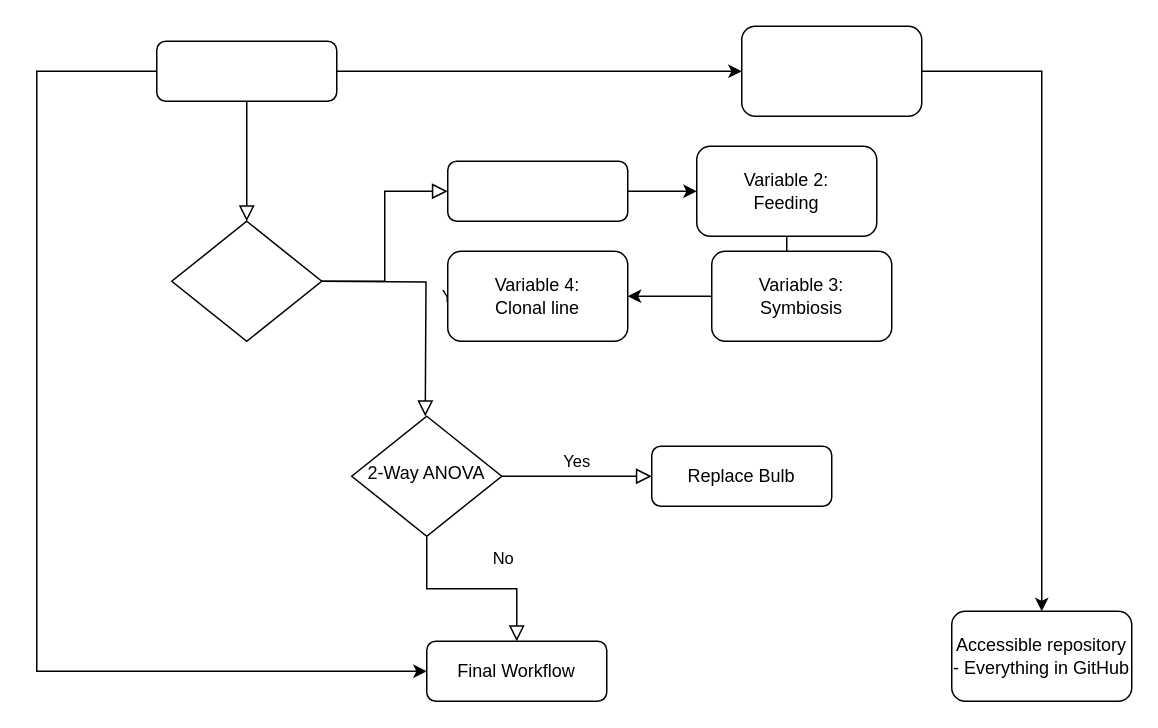
Image size: 1158x728. Some labels were removed from this diagram. Each missing label, with the centre of its shape:
"Copy: Raw Data, Metadata" goes at point (831, 70).
"Raw Data" goes at point (246, 70).
"T-test" goes at point (246, 280).
"Variable 1: Heat" goes at point (537, 190).
